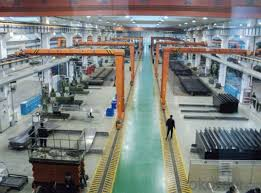Scissor Lift: (25, 127, 91, 193)
